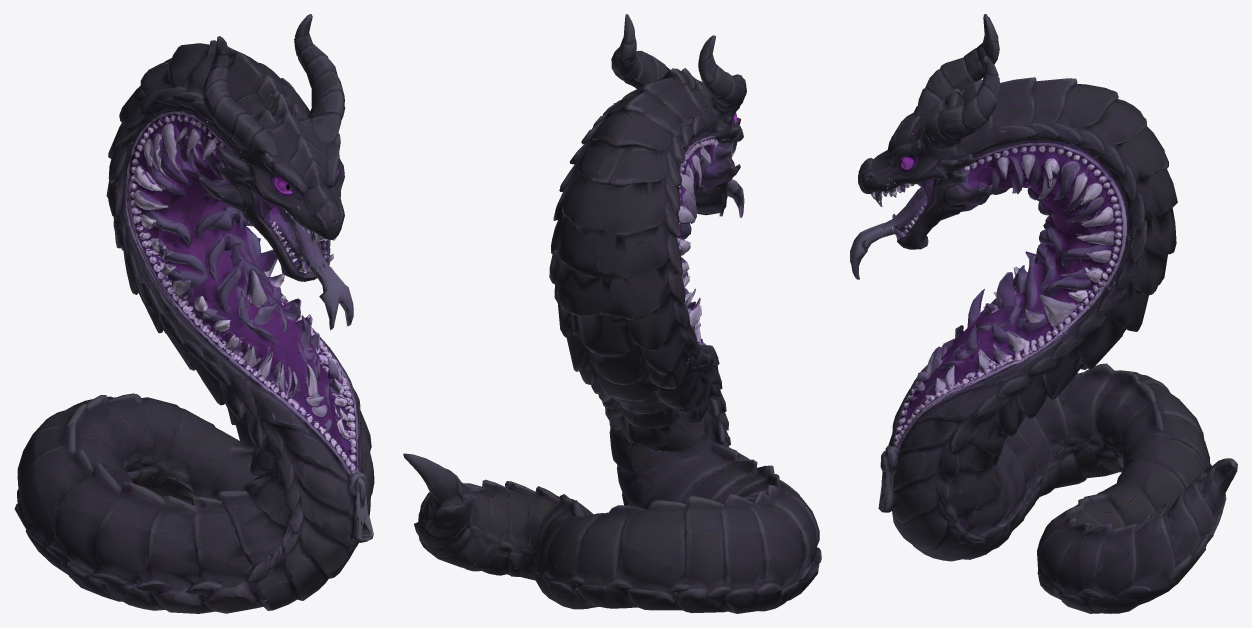
3 renders of one model, left to right at view 1: azimuth 30°, elevation 25°; view 2: azimuth 150°, elevation 25°; view 3: azimuth 270°, elevation 25°, orthographic. The views are drawn at different scales.
Visible parts, largest first — view 1: Mesh_0; view 2: Mesh_0; view 3: Mesh_0.
Part boxes in pixels (<box>): Mesh_0: <box>14,14,374,613</box>; Mesh_0: <box>403,14,821,613</box>; Mesh_0: <box>850,14,1237,613</box>.
Bounding box in the file's own units: 1.25 × 1.9 × 1.28.
Materials: 1 (1 with a texture image).
